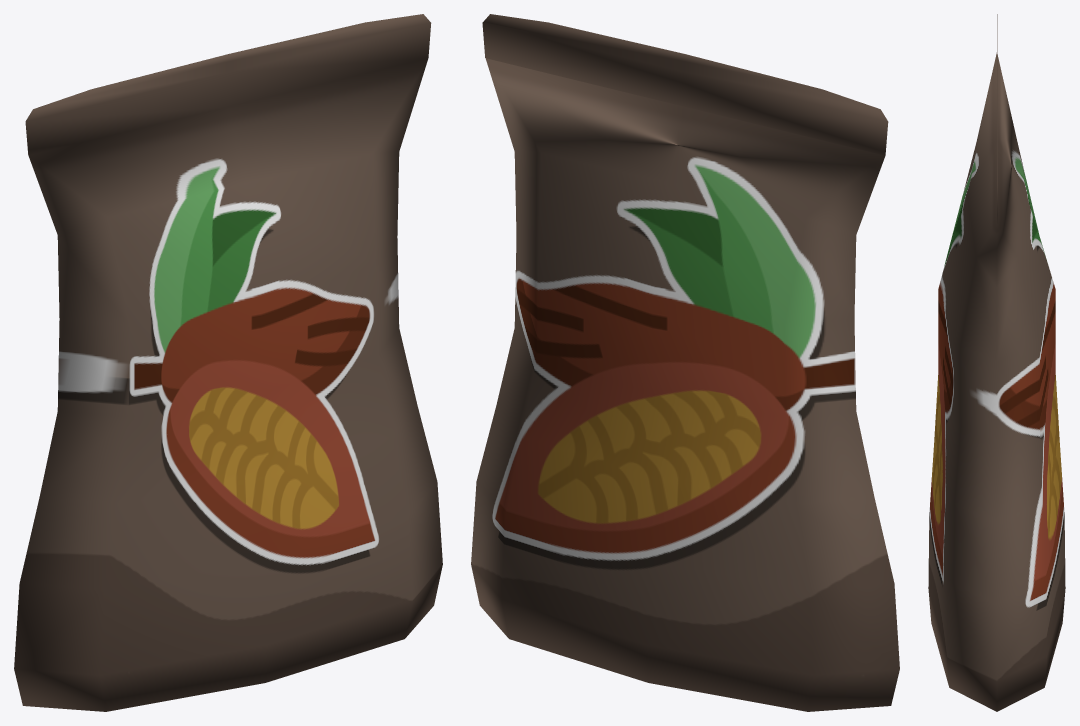
Rendered from CocoaSeed_Product.fbx.
3 views of the same model, side by side, from view 1: azimuth 30°, elevation 25°; view 2: azimuth 150°, elevation 25°; view 3: azimuth 270°, elevation 25° (orthographic). The views are drawn at different scales.
Parts seen in each view (by area): view 1: CacaoSeed; view 2: CacaoSeed; view 3: CacaoSeed.
Boxes of the visible parts, x1=… form: CacaoSeed: x1=14, y1=14, x2=442, y2=711; CacaoSeed: x1=471, y1=14, x2=899, y2=711; CacaoSeed: x1=928, y1=14, x2=1065, y2=711.
Bounding box in the file's own units: 27.96 × 37.57 × 8.75.
